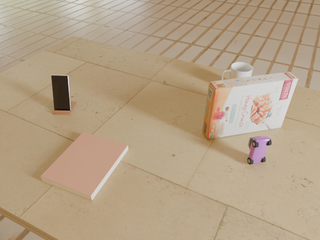book: (41, 132, 128, 200)
box: (202, 72, 298, 139)
cup: (222, 62, 253, 80)
phone: (51, 75, 71, 111)
toy_car: (248, 136, 271, 164)
